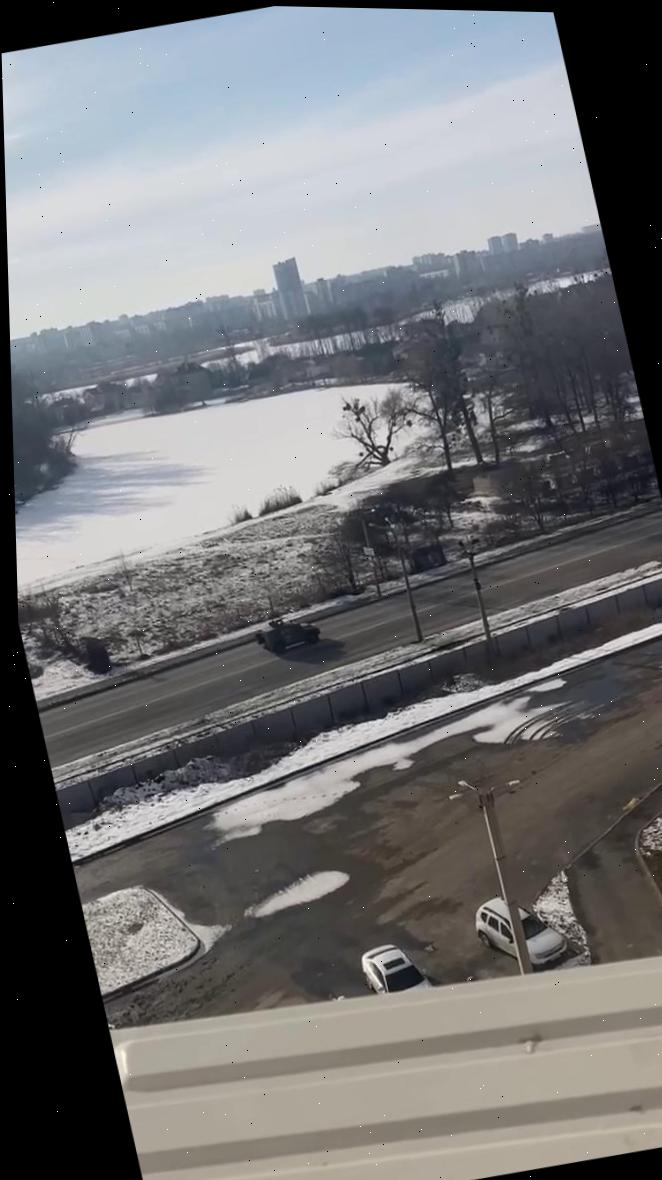armored_car: (251, 610, 326, 660)
car: (468, 885, 571, 978), (357, 936, 433, 1000)
